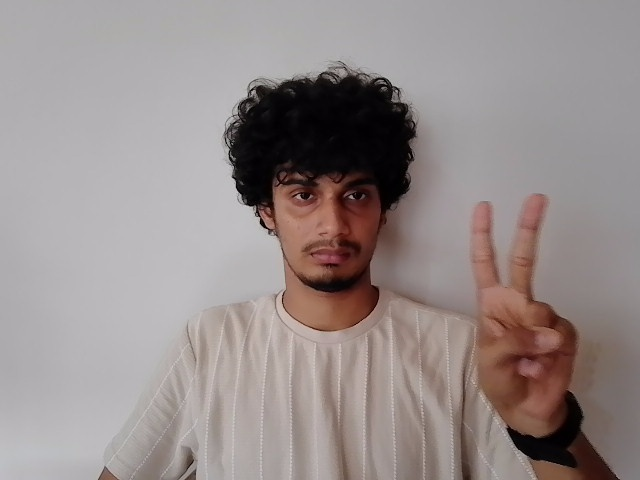travel: (466, 188, 580, 412)
